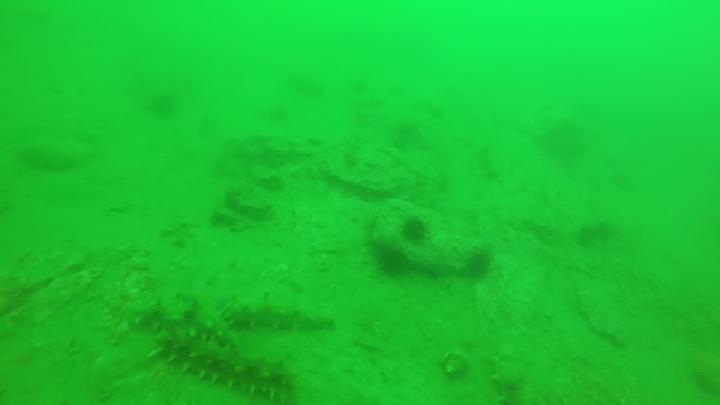echinus: (376, 249, 407, 279), (400, 219, 432, 244), (473, 259, 498, 281)
holothurian: (153, 329, 298, 405), (129, 296, 238, 359), (216, 297, 342, 329), (492, 345, 541, 405)
